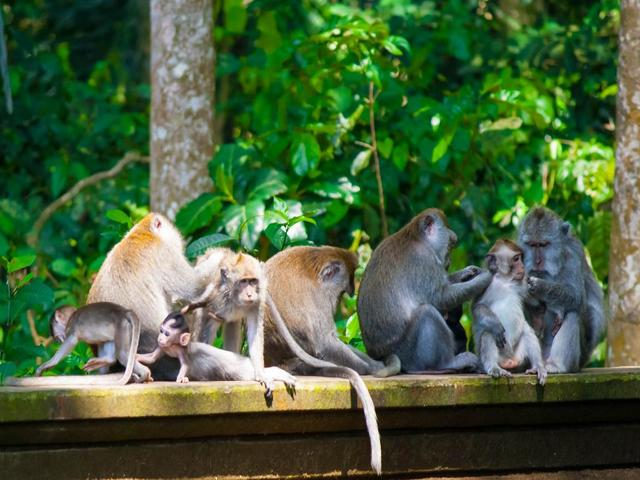monkey: (355, 198, 479, 386), (485, 174, 613, 346)
